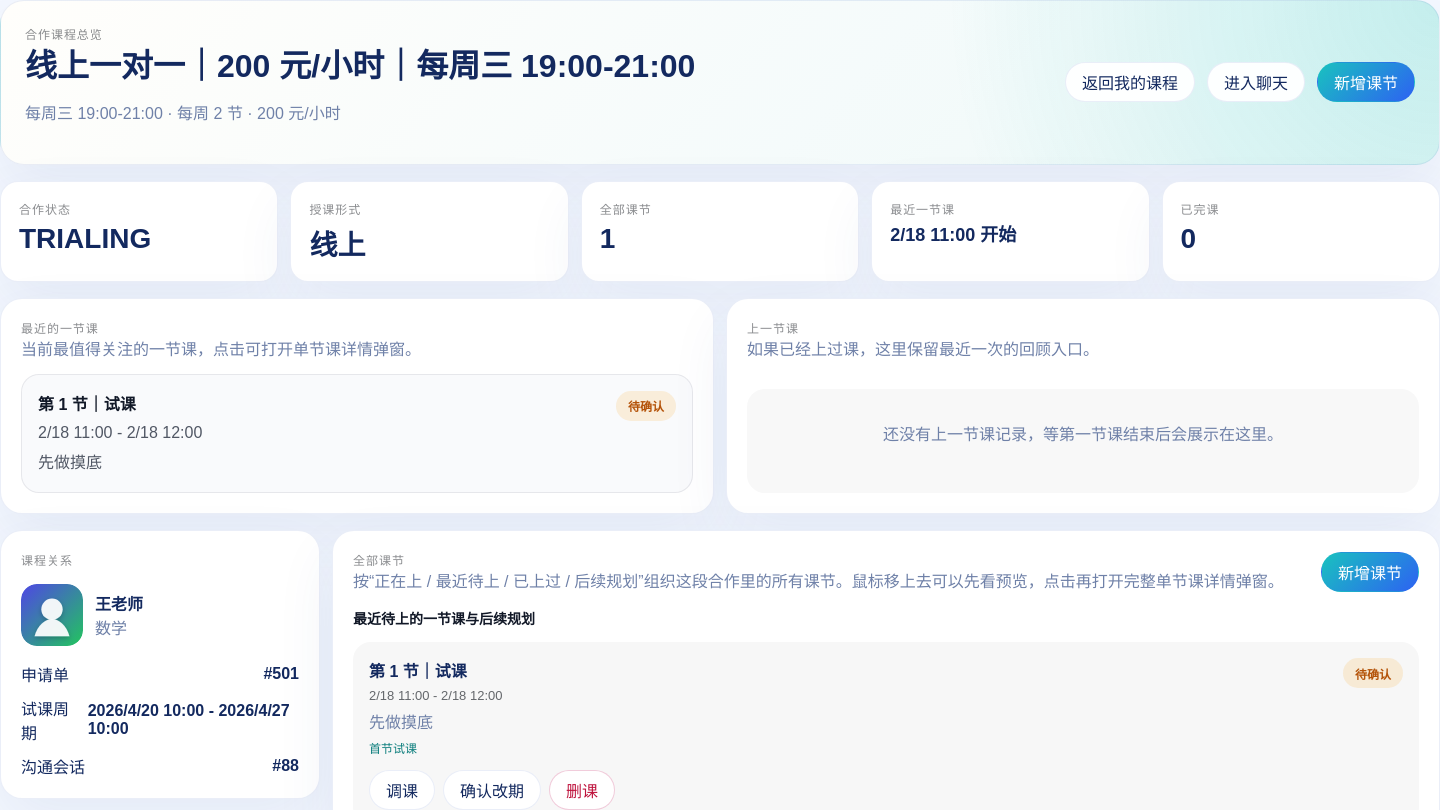
it: CourseDetailPage › cancels lesson from course detail page
This screenshot has width=1440, height=810.
Click the button "删课" at (582, 790), box [549, 770, 615, 809]
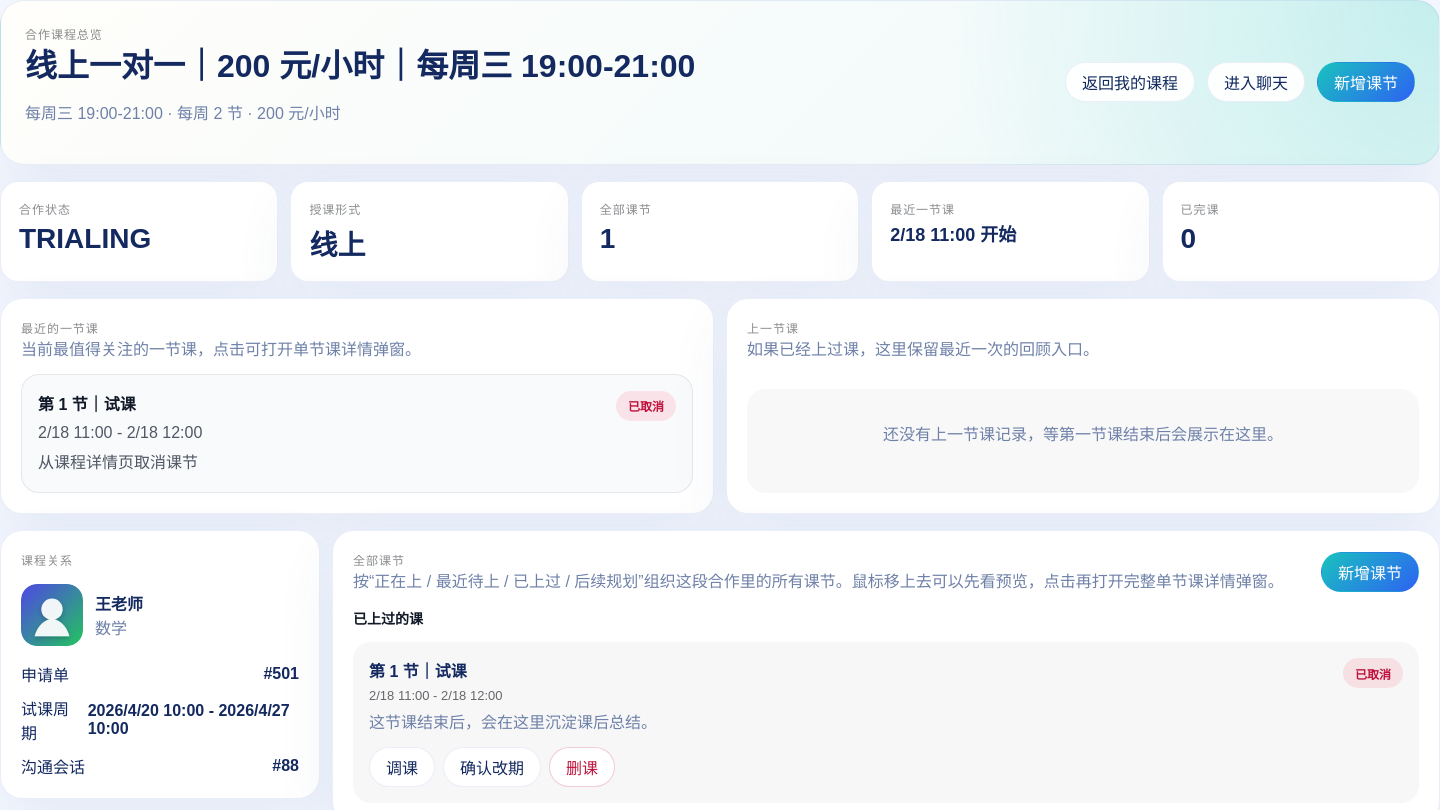
Check: the text "已取消" is shown, box [616, 391, 676, 421]
